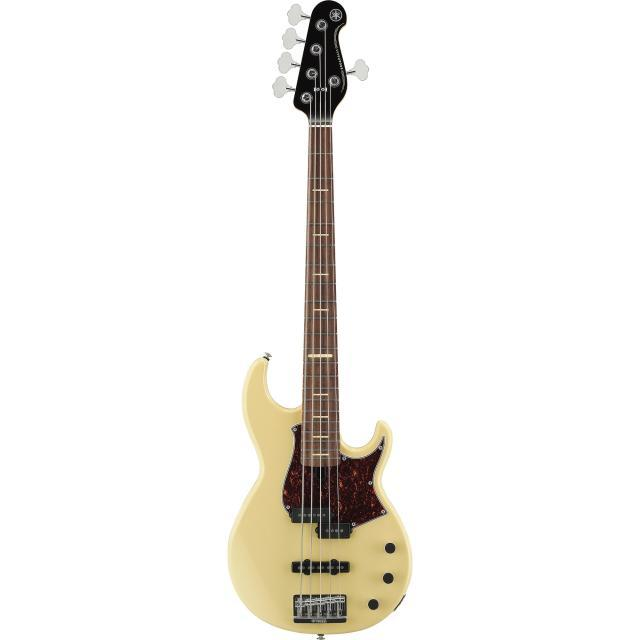bass: (229, 0, 410, 632)
